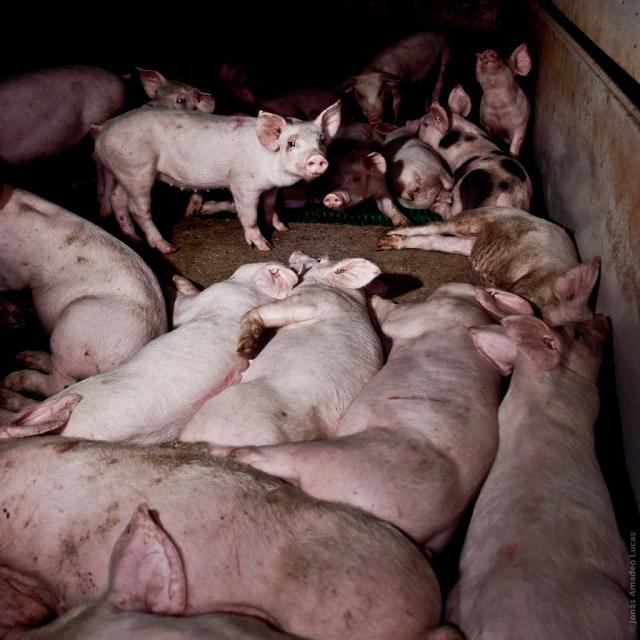Pig: (0, 28, 634, 639)
